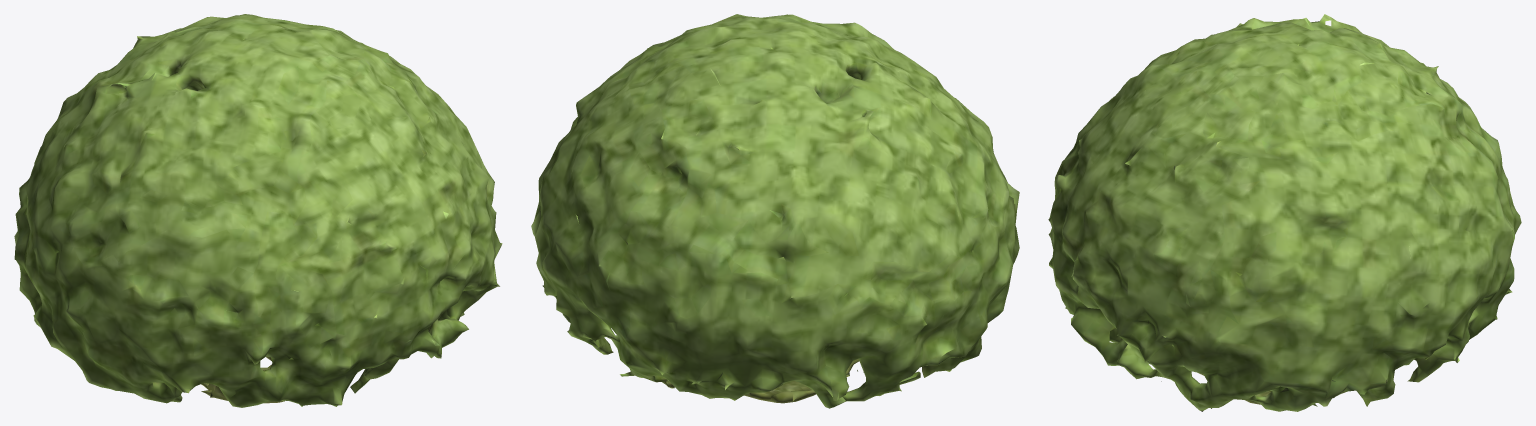
Rendered from BushRound.glb.
3 views of the same model, side by side, from view 1: azimuth 30°, elevation 25°; view 2: azimuth 150°, elevation 25°; view 3: azimuth 270°, elevation 25° (orthographic).
Parts seen in each view (by area): view 1: BushRound; view 2: BushRound; view 3: BushRound.
Part boxes in pixels (<box>): BushRound: <box>14,14,502,407</box>; BushRound: <box>531,14,1019,408</box>; BushRound: <box>1048,14,1521,411</box>.
Size of the model in its own units: 1.46 by 1.17 by 1.44.
1 material, 1 textured.
